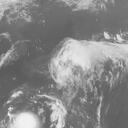cyclone: (48, 37, 102, 90)
